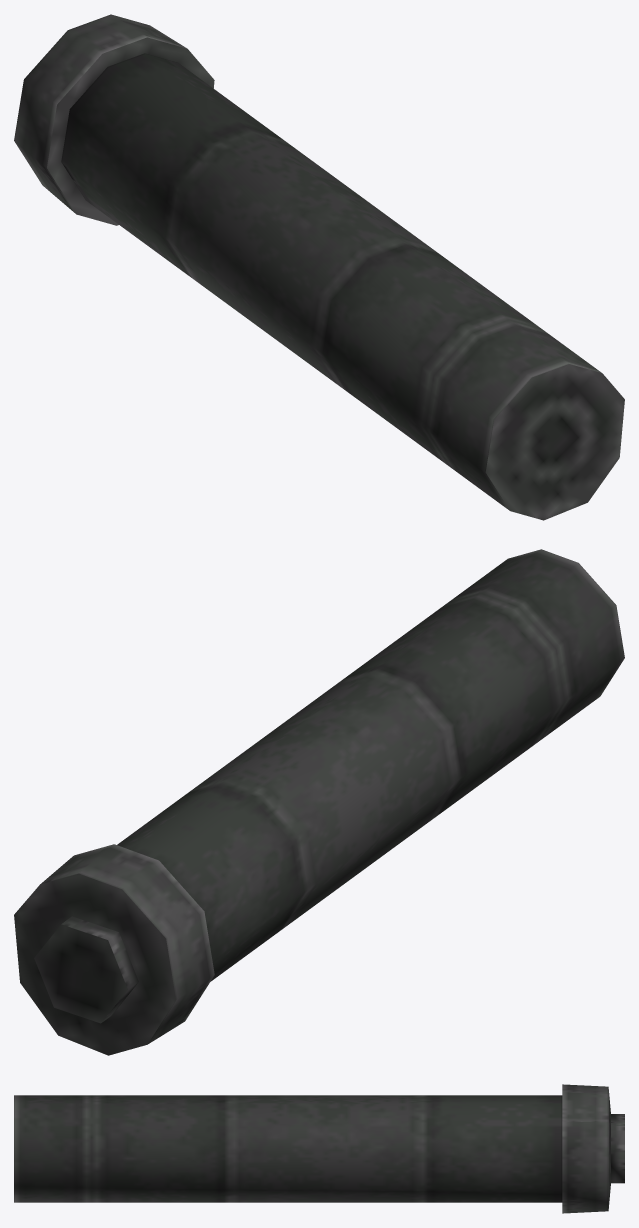
Rendered from Pickup_WeaponXsq04.glb.
3 renders of one model, top to bottom at view 1: azimuth 30°, elevation 25°; view 2: azimuth 150°, elevation 25°; view 3: azimuth 270°, elevation 25°, orthographic. The views are drawn at different scales.
Parts seen in each view (by area): view 1: pk_weapon_xsq04; view 2: pk_weapon_xsq04; view 3: pk_weapon_xsq04.
Part boxes in pixels (x1,y1,x2,y2): pk_weapon_xsq04: (14,14,624,520); pk_weapon_xsq04: (14,549,624,1055); pk_weapon_xsq04: (14,1084,624,1213).
Bounding box in the file's own units: 0.1603 × 0.1653 × 0.7825.
1 material, 1 textured.
